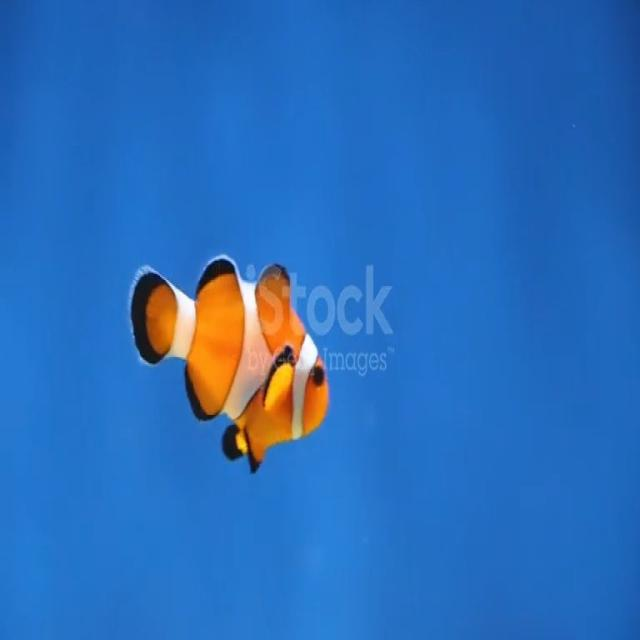fish: (126, 242, 330, 481)
